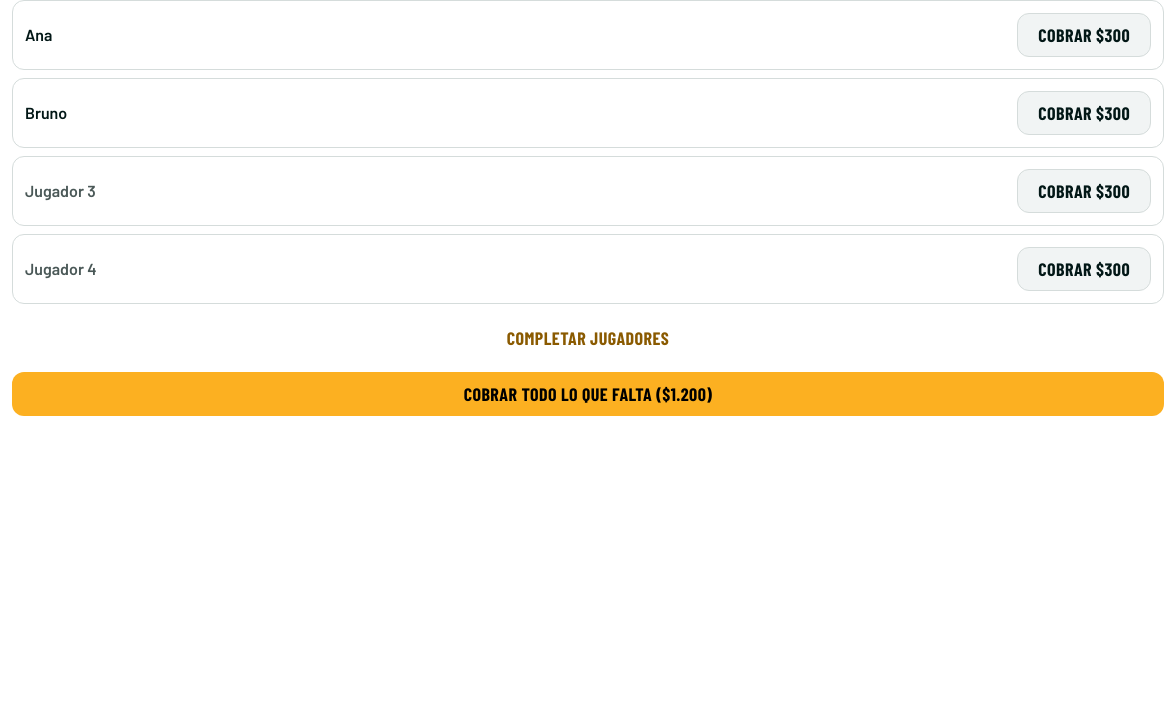
Test: BookingPlayers › keeps the error in the card when someone else charged first
The width and height of the screenshot is (1176, 720).
What coordinates should you click on to do the following:
click the button with aria-label "Cobrar $300 a Ana"
I would click on:
 (1084, 35)
Its box is x1=1017 y1=13 x2=1151 y2=57.
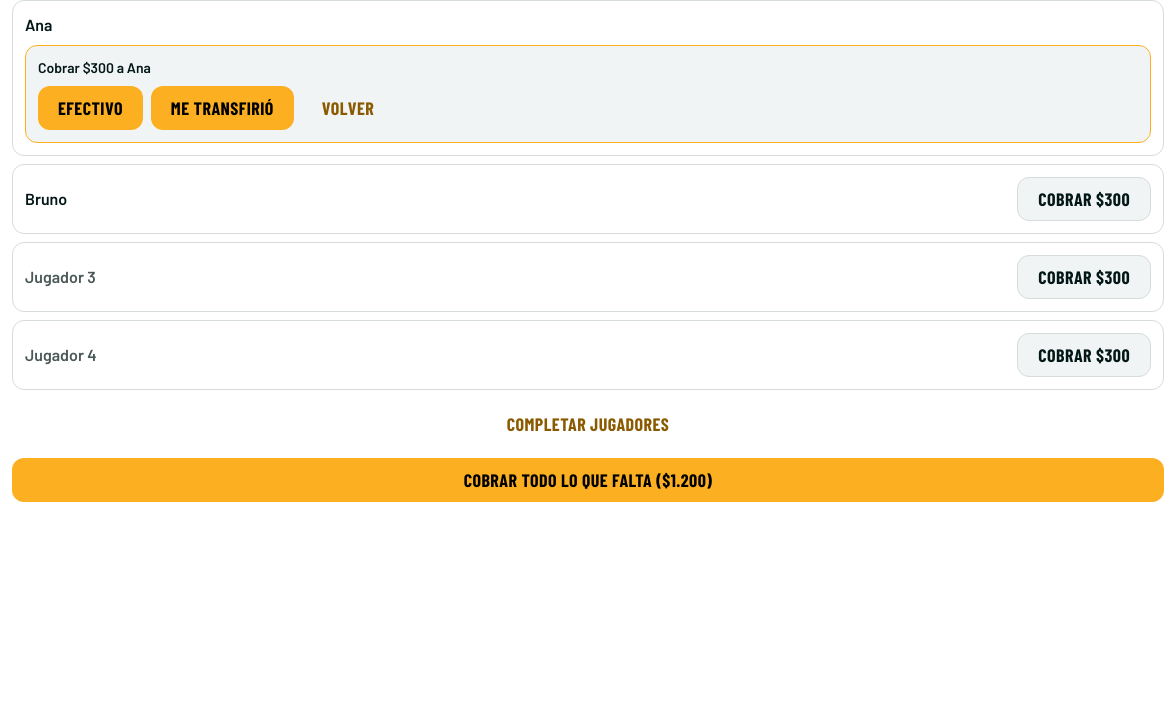
What coordinates should you click on to do the following:
click the button "Me transfirió"
I would click on:
 (222, 108)
Its box is x1=151 y1=86 x2=294 y2=130.
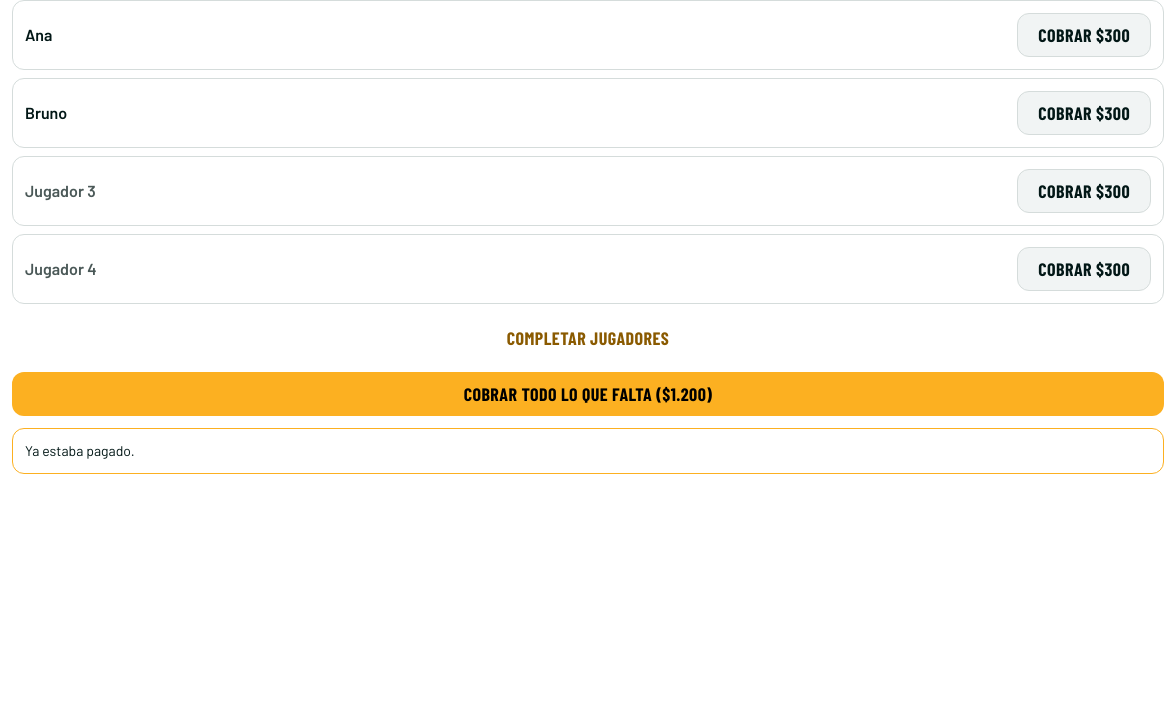
Check: the message reads "Ya estaba pagado.", box x1=25 y1=442 x2=135 y2=459
